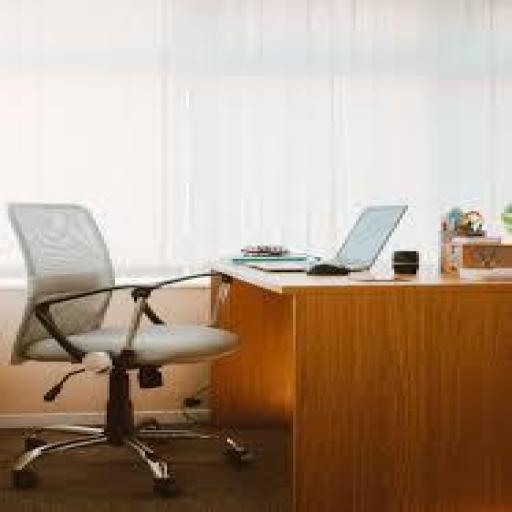chair: (3, 196, 263, 499)
